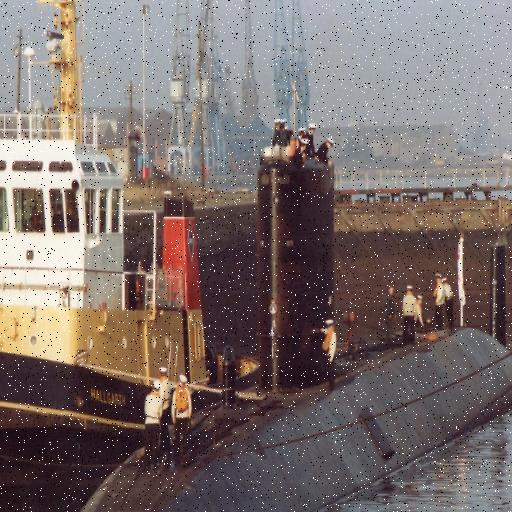submarine: (50, 161, 512, 512)
